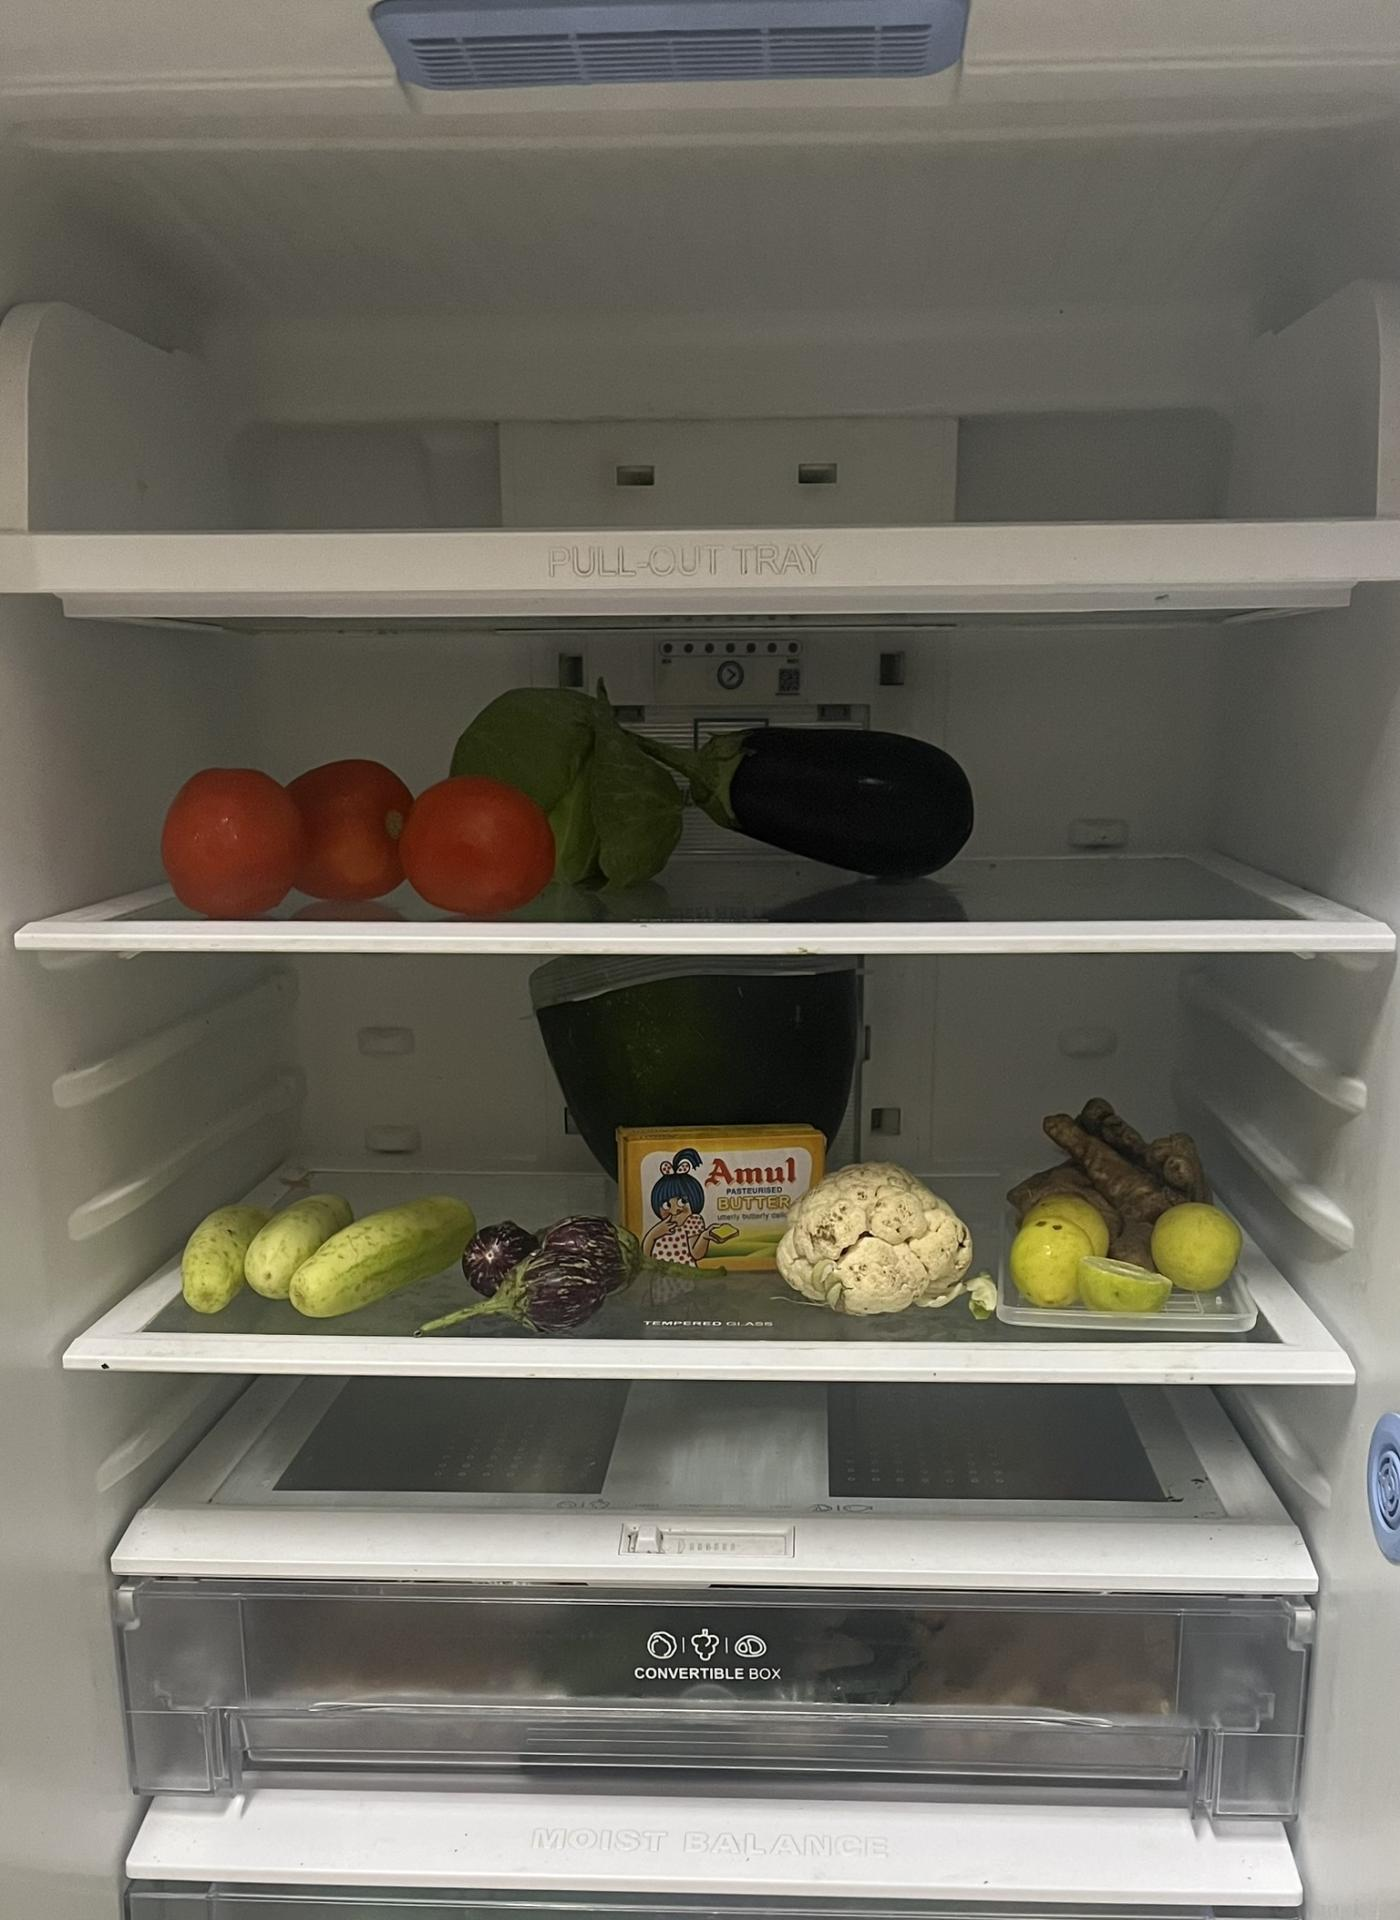butter: (629, 1125, 820, 1269)
cabbage: (446, 675, 686, 897)
cauliflower: (784, 1160, 975, 1316)
cucumber: (185, 1181, 474, 1322)
ginger: (999, 1088, 1233, 1228)
lemon: (996, 1194, 1160, 1309), (1145, 1200, 1242, 1288)
tomato: (167, 753, 562, 918)
watermelon: (526, 953, 869, 1194)
